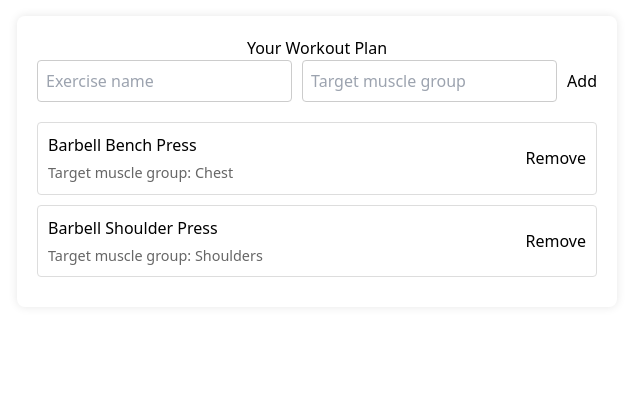
addExercise adds a new exercise
This screenshot has width=635, height=408.
Type "Squats" into the field with id "NewExercise" at (164, 81), box [37,60,292,102]
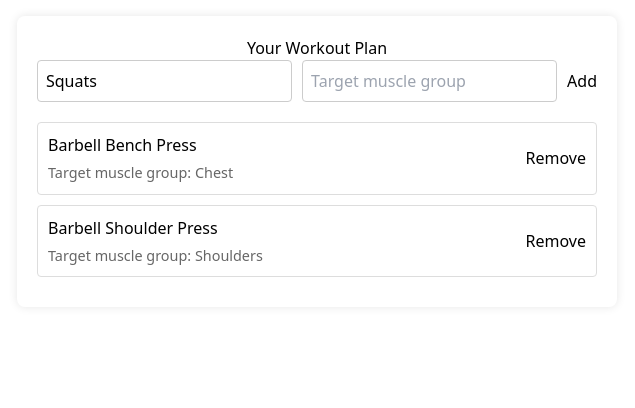
Type "Legs" into the field with id "NewTarget" at (430, 81), box [302,60,557,102]
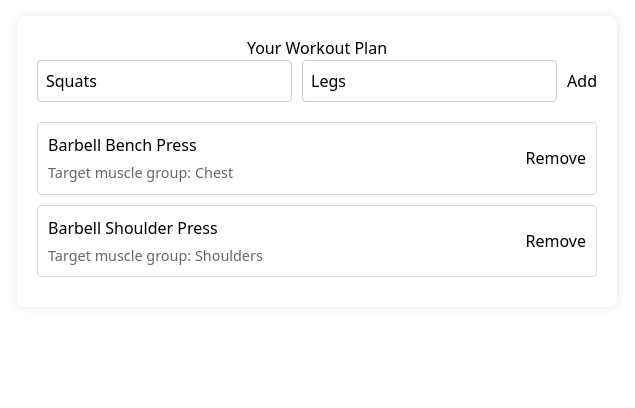
Submit the form from the submit button, box [567,60,597,102]
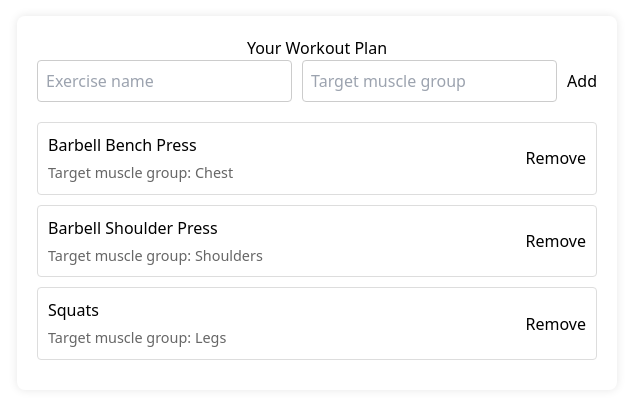
expect the number of list items is 3: met, box [37,122,597,195]; [37,205,597,277]; [37,287,597,360]
expect the list item "Squats Target muscle group: Legs Remove" is shown: met, box [37,287,597,360]
